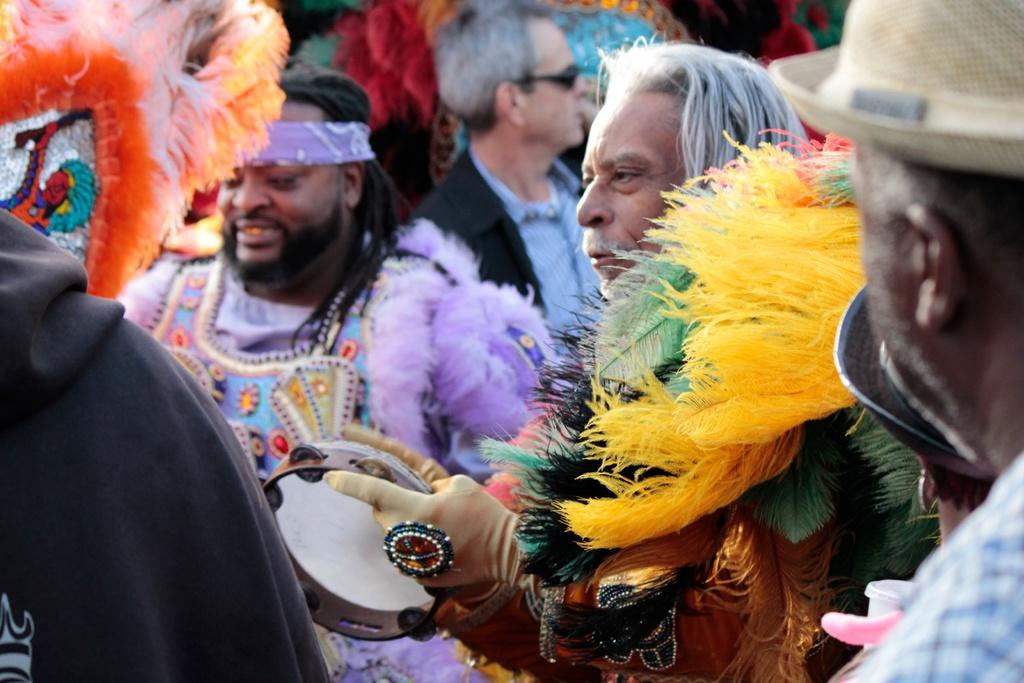Hat: (766, 0, 1023, 177)
